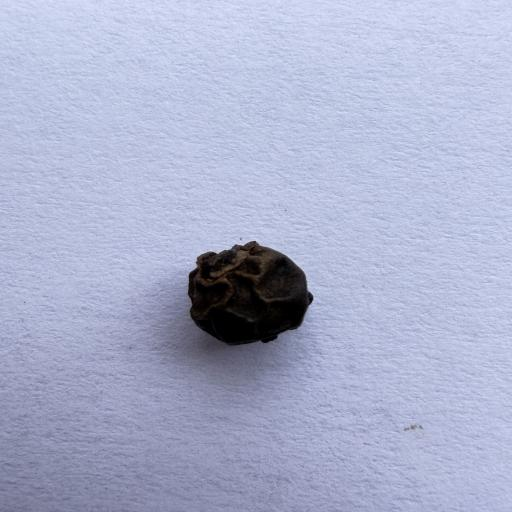Black_pepper: (159, 232, 341, 370)
